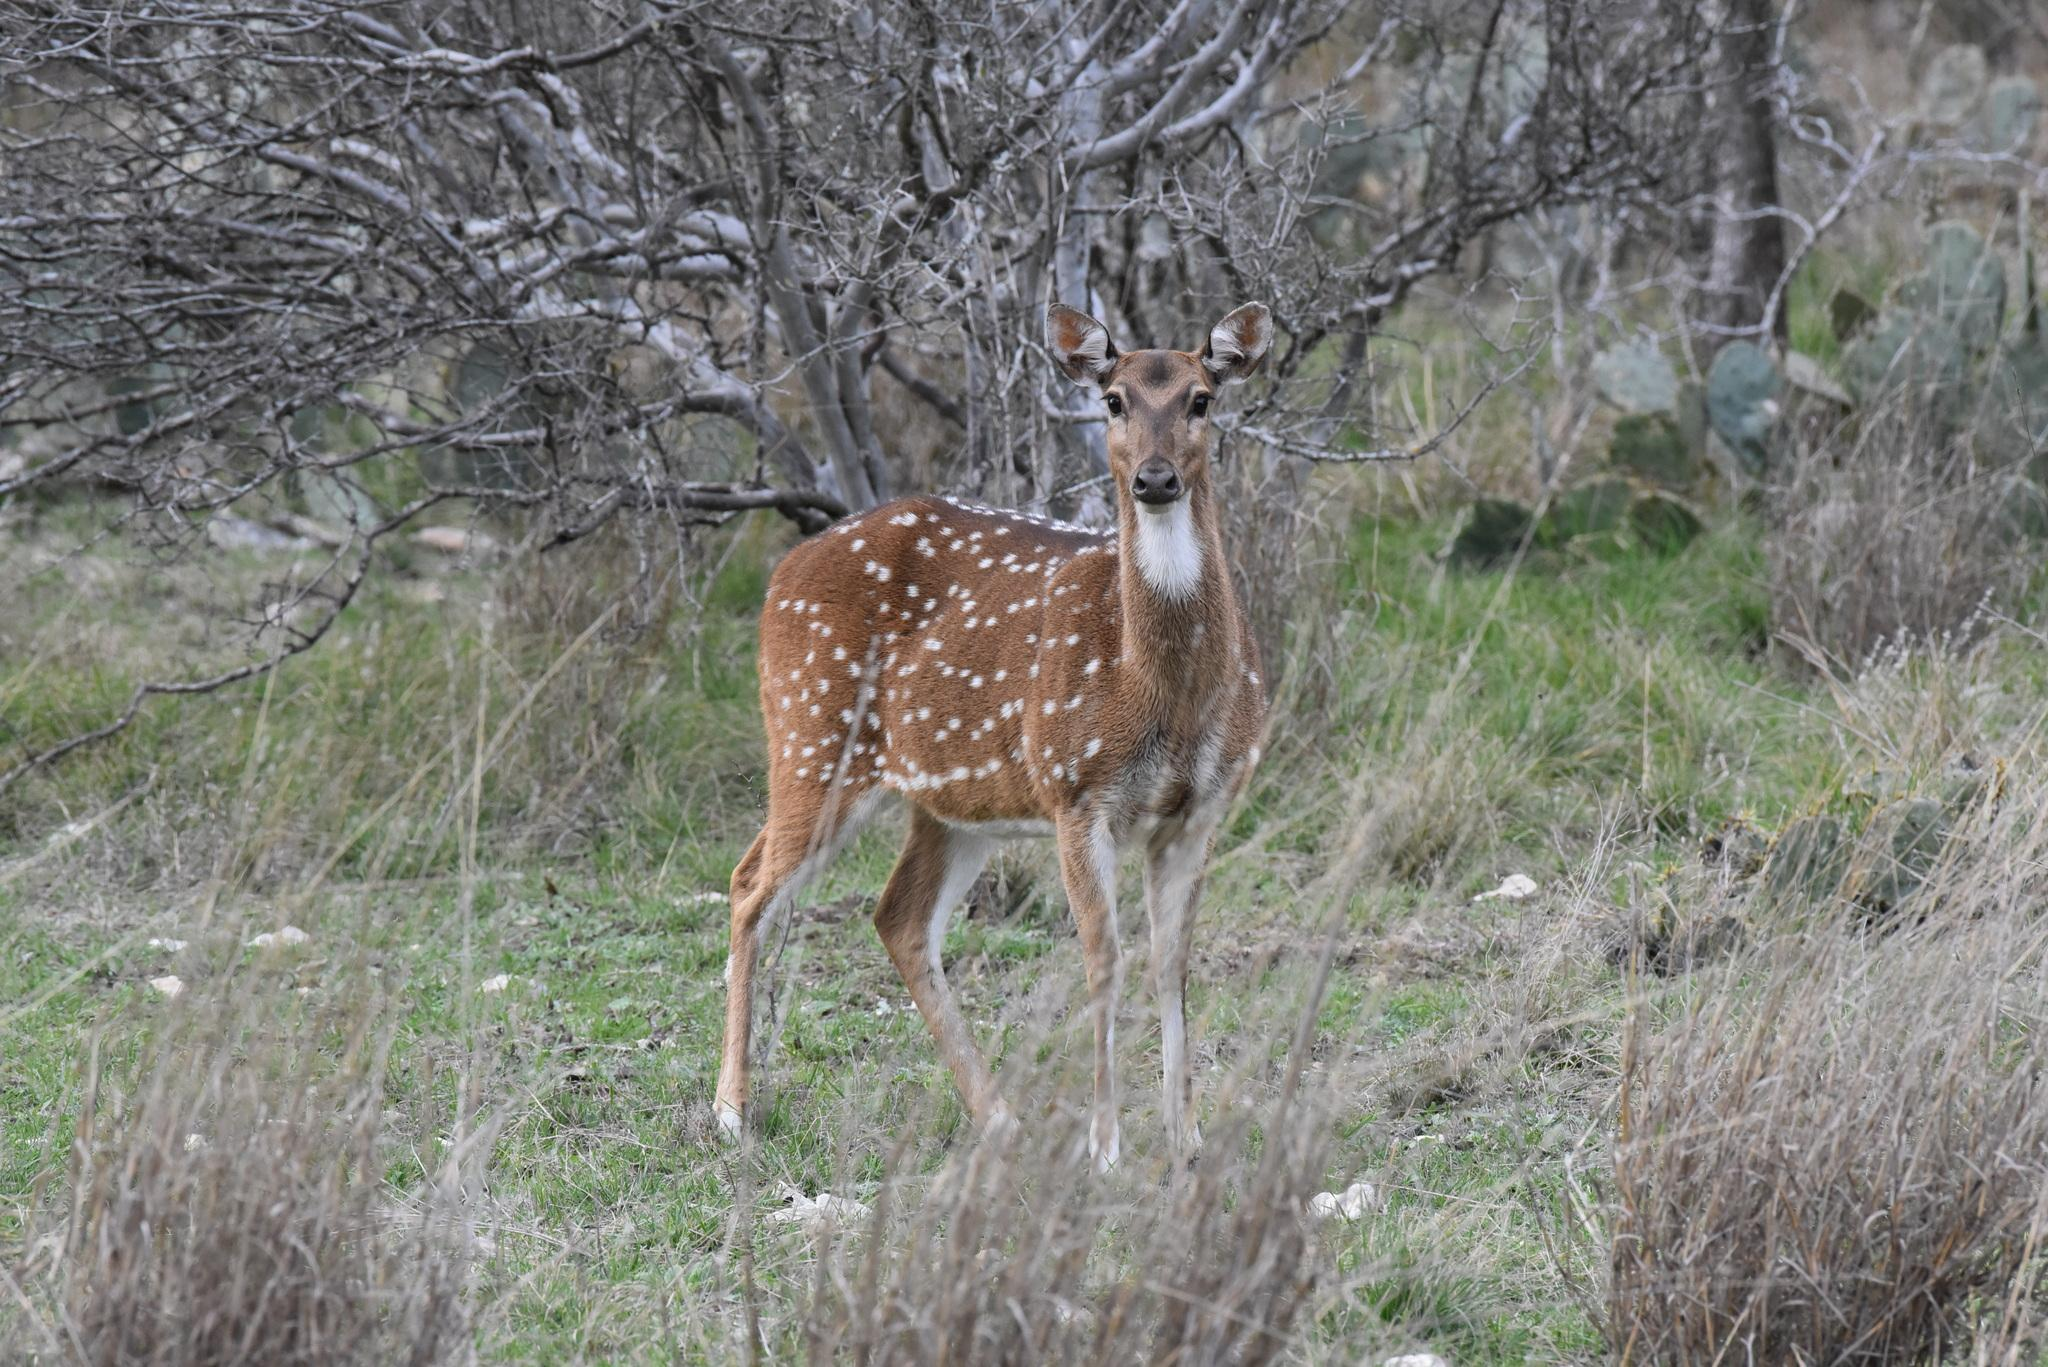Deer: (714, 302, 1272, 1166)
